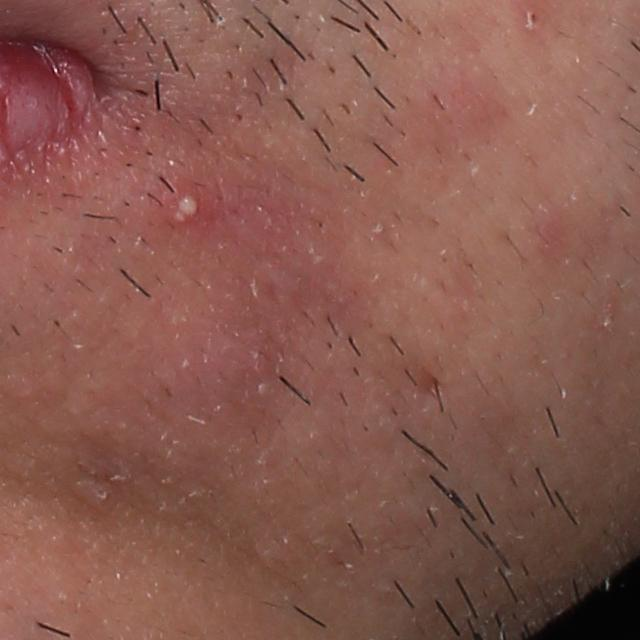pustule: (161, 182, 210, 230)
